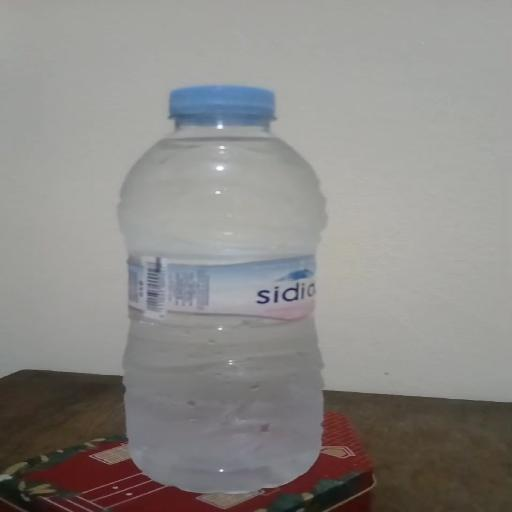bouteille conformite: (118, 80, 325, 492)
